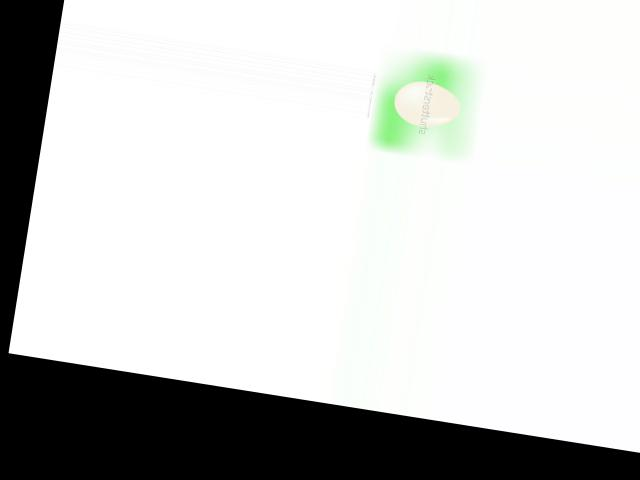egg: (391, 77, 463, 131)
